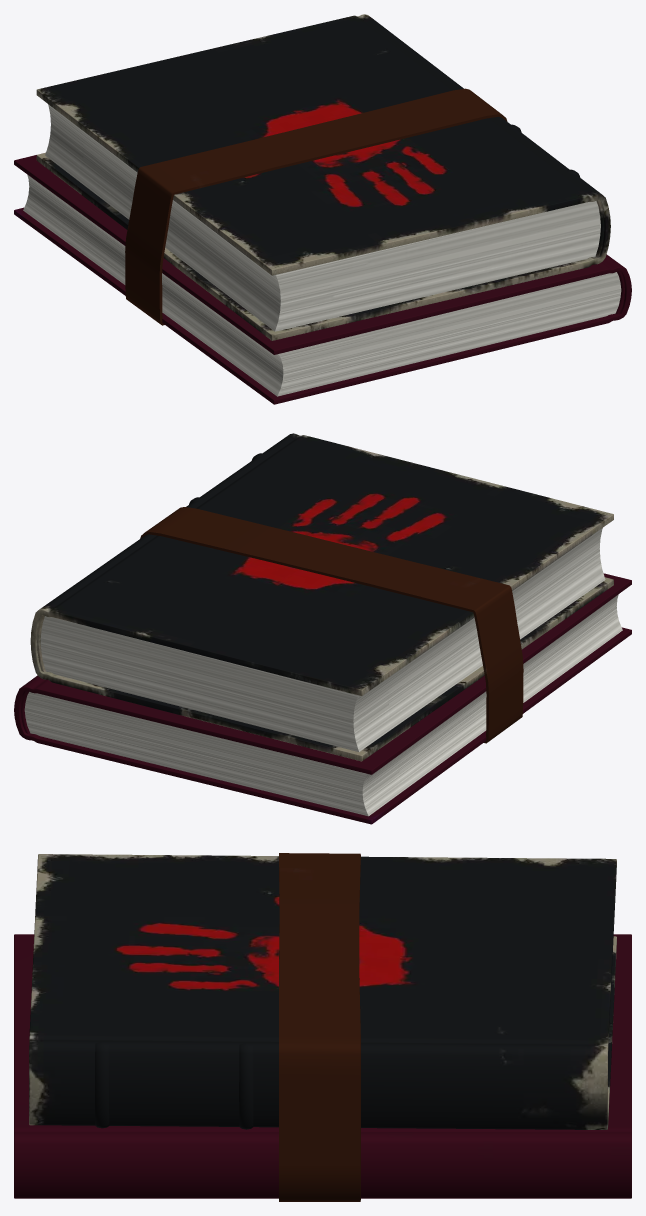
The model's file is sf-book-stack.glb.
3 renders of one model, top to bottom at view 1: azimuth 30°, elevation 25°; view 2: azimuth 150°, elevation 25°; view 3: azimuth 270°, elevation 25°, orthographic. The views are drawn at different scales.
Visible parts, largest first — view 1: defaultMaterial (×4); view 2: defaultMaterial (×4); view 3: defaultMaterial (×3).
Part boxes in pixels (x1,y1,x2,y2): defaultMaterial (×4): (14, 14, 631, 404); defaultMaterial (×4): (14, 433, 631, 824); defaultMaterial (×3): (14, 853, 631, 1201).
Size of the model in its own units: 0.2418 by 0.0832 by 0.3.
4 materials, 4 textured.
